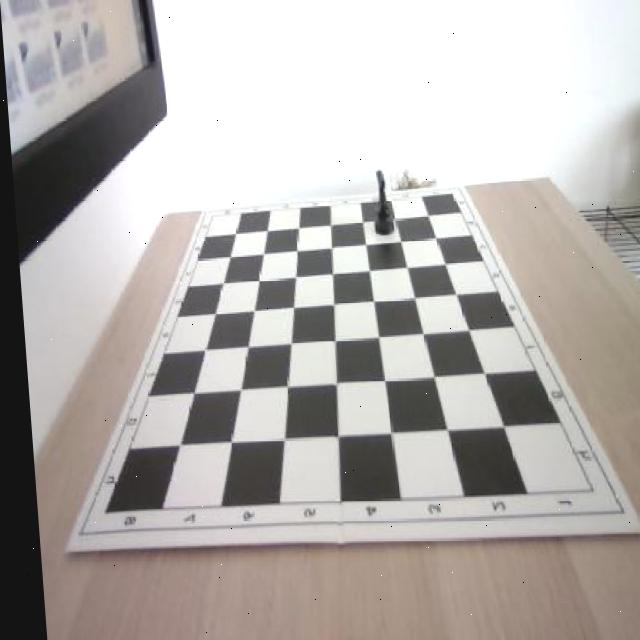black-king: (365, 168, 392, 236)
